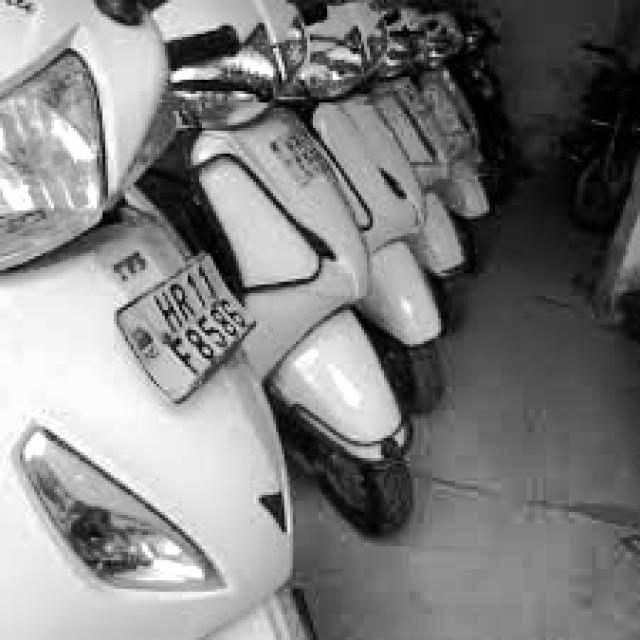Bike: (0, 1, 263, 640), (170, 2, 417, 557), (289, 7, 447, 407), (357, 6, 511, 317)
